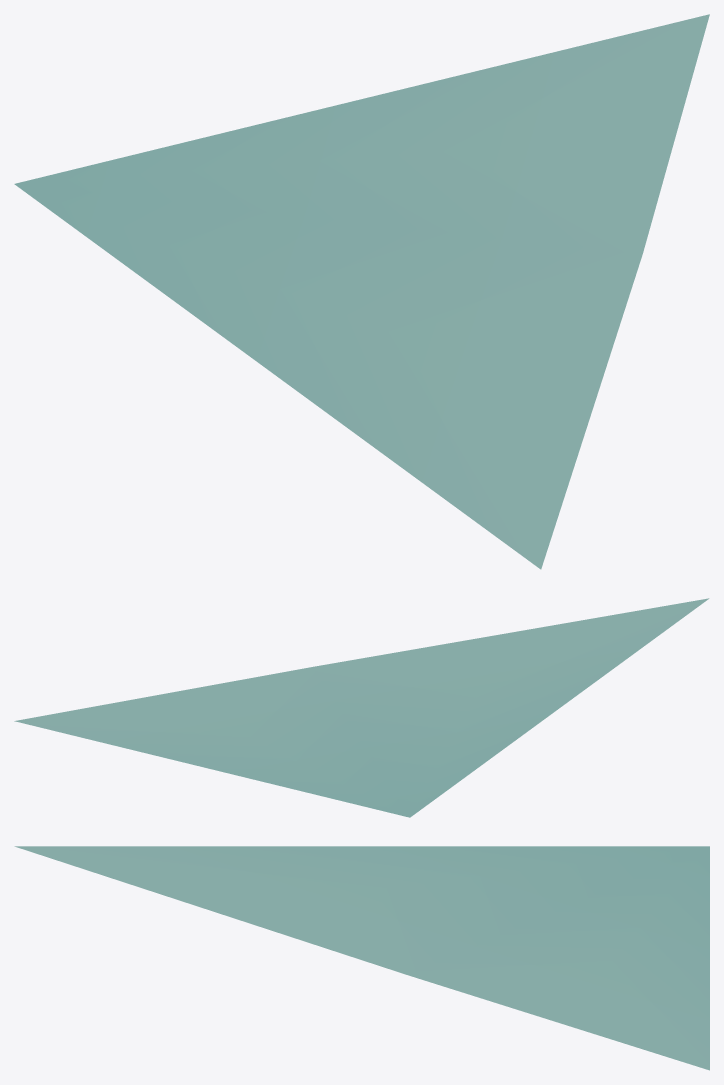
File: water-16-3.glb
3 renders of one model, top to bottom at view 1: azimuth 30°, elevation 25°; view 2: azimuth 150°, elevation 25°; view 3: azimuth 270°, elevation 25°, orthographic. The views are drawn at different scales.
Bounding box in the file's own units: 2.63 × 0 × 3.45.
